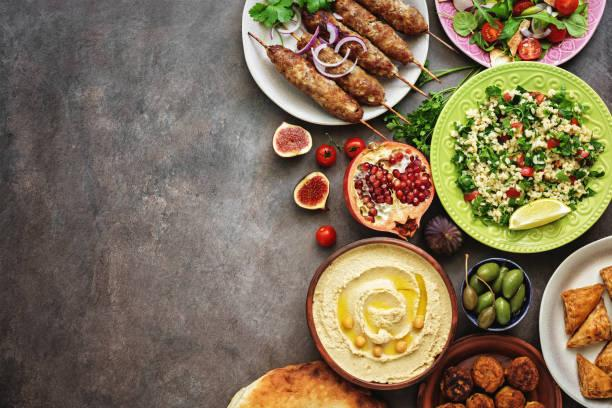Braised Crucian Carp: (430, 61, 612, 253), (240, 1, 423, 127), (304, 237, 454, 390), (434, 0, 606, 69), (413, 333, 562, 407)
